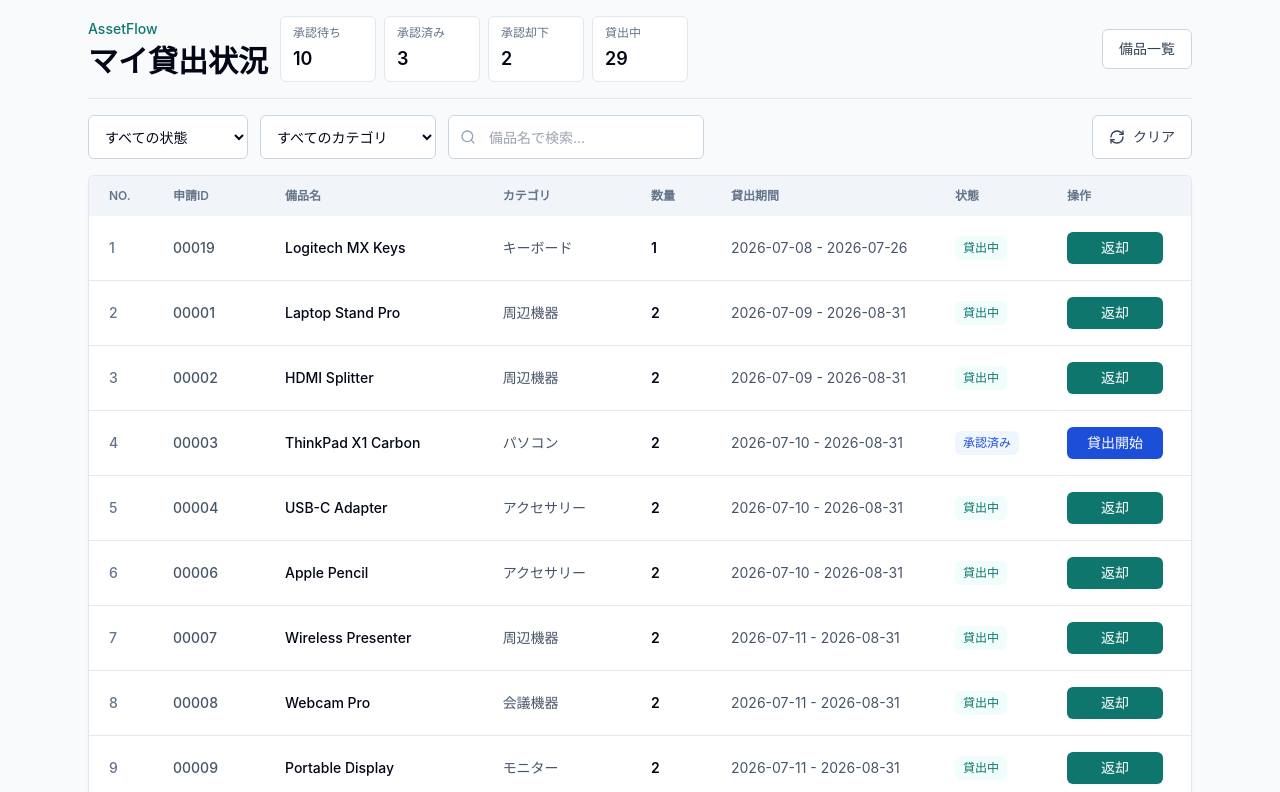
Test: MyLoanRequestPage › 031: 承認待ちで絞り込むと10件を表示する
This screenshot has width=1280, height=792.
Step 1. Select "承認待ち" in the dropdown named "ステータスで絞り込み" → (168, 137), box [88,115,248,159]
(page scrolled)
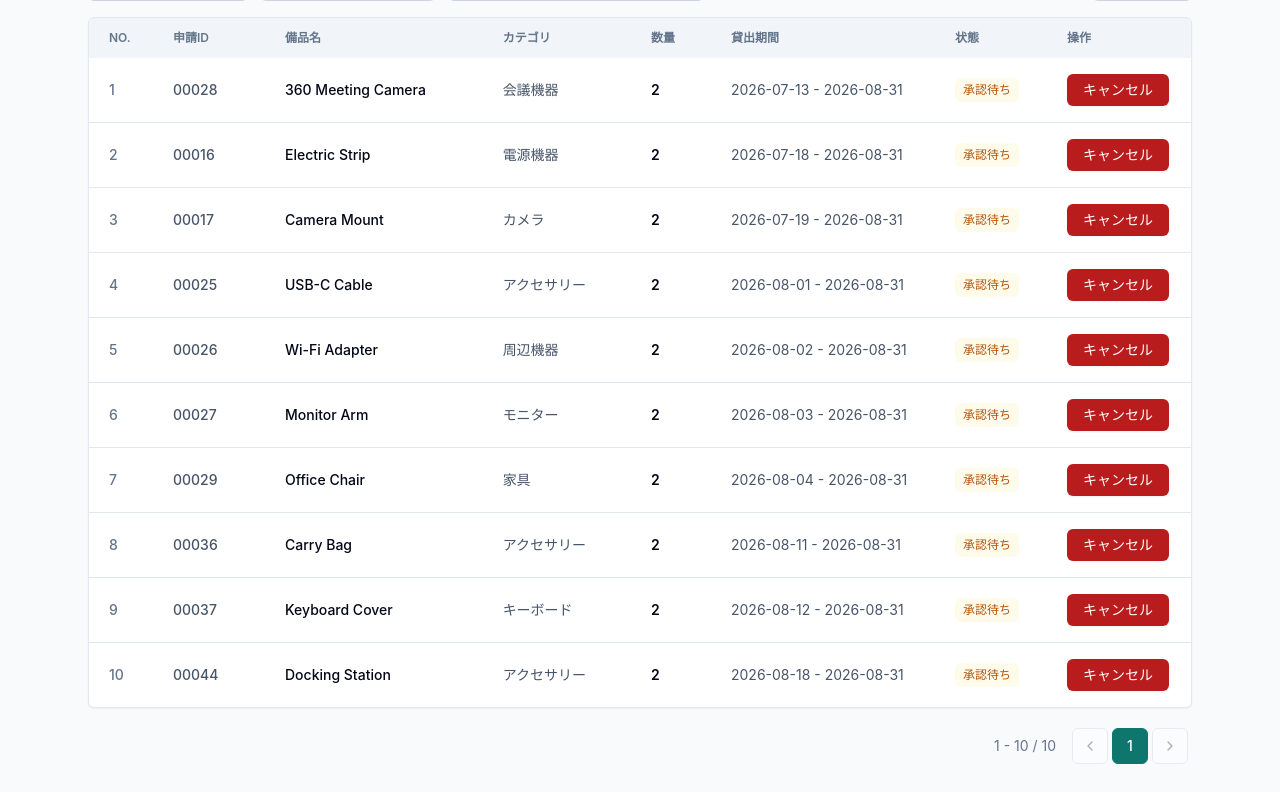
Expected: the button named "前のページ" is disabled, [1072,728,1108,764]
Expected: the button named "次のページ" is disabled, [1152,728,1188,764]
